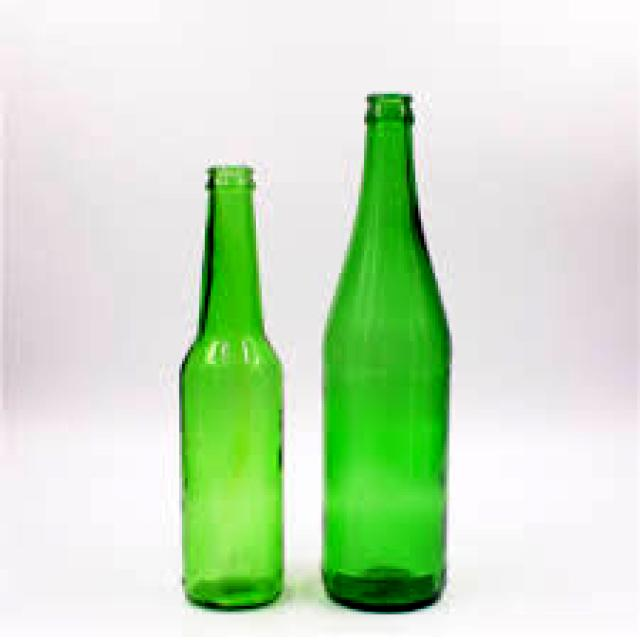Glass: (315, 92, 453, 616), (172, 159, 289, 616)
